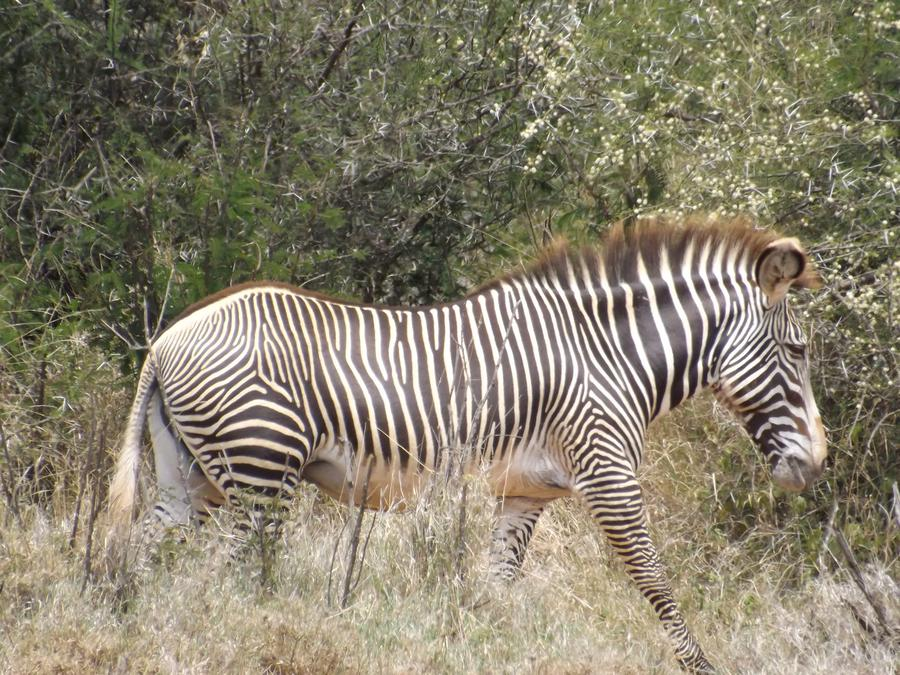zebra_grevys: (149, 291, 637, 476)
